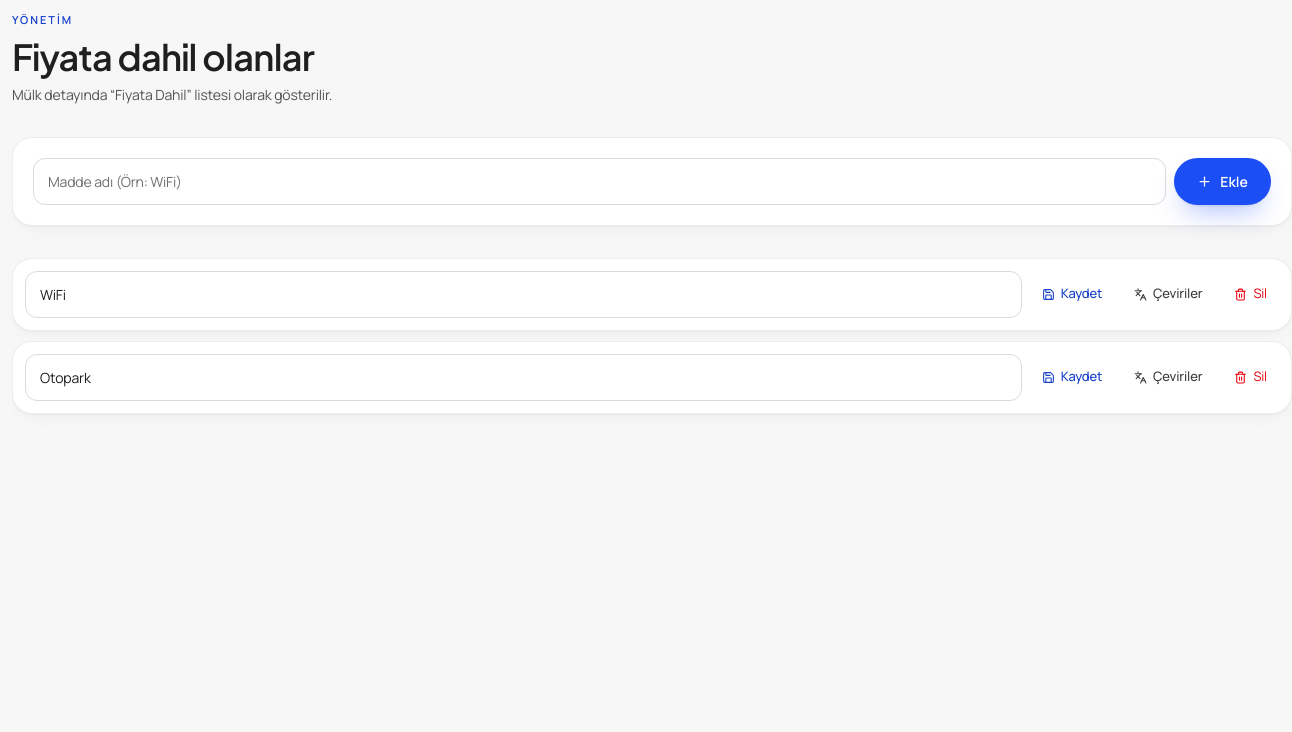
PriceIncludesPage — Phase 10D Batch 3 — panel açma/kapama + tab mekaniği › 6) İkinci satıra basınca önceki panel kapanır (tek panel açık)
The width and height of the screenshot is (1292, 732).
Step 1. Click the button with aria-label "çevirileri" → (1168, 294), box [1122, 276, 1214, 312]
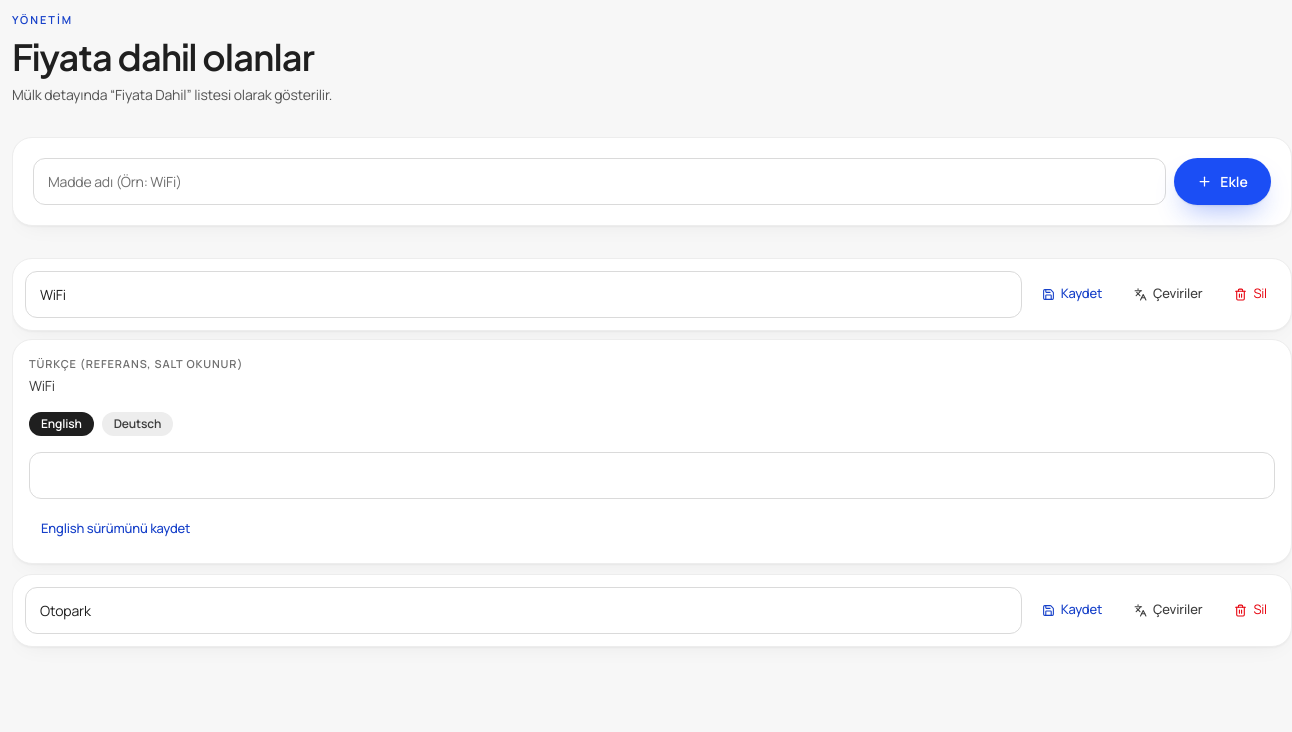
Result: the text "Türkçe (referans, salt okunur)" is shown at [29, 356, 243, 370]
Step 2. Click the button with aria-label "çevirileri" → (1168, 610), box [1122, 592, 1214, 628]
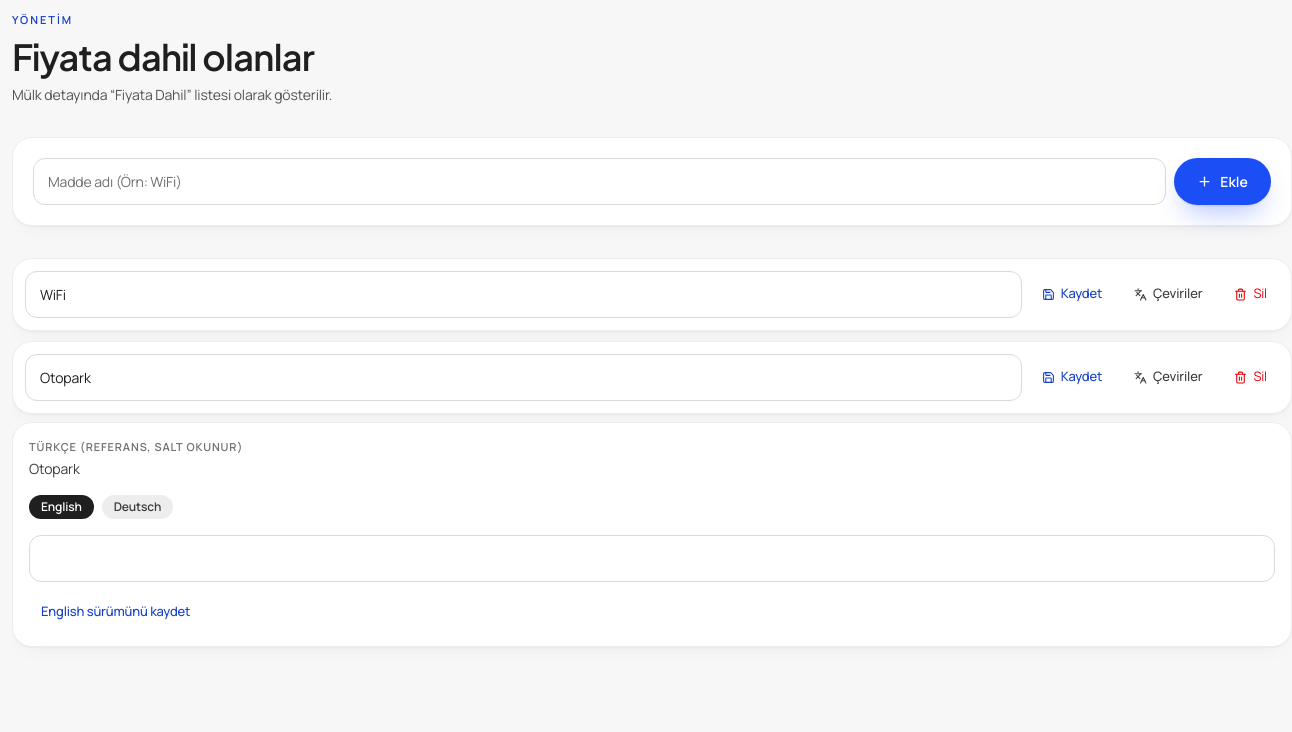
Result: the text "Türkçe (referans, salt okunur)" is shown once at [29, 438, 243, 454]
Result: the text "Otopark" is shown at [29, 459, 80, 478]
